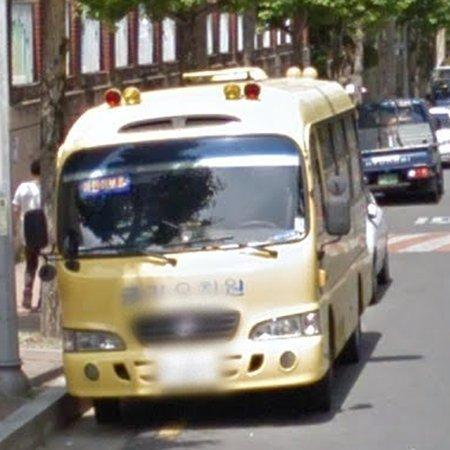buses: (53, 67, 373, 419)
